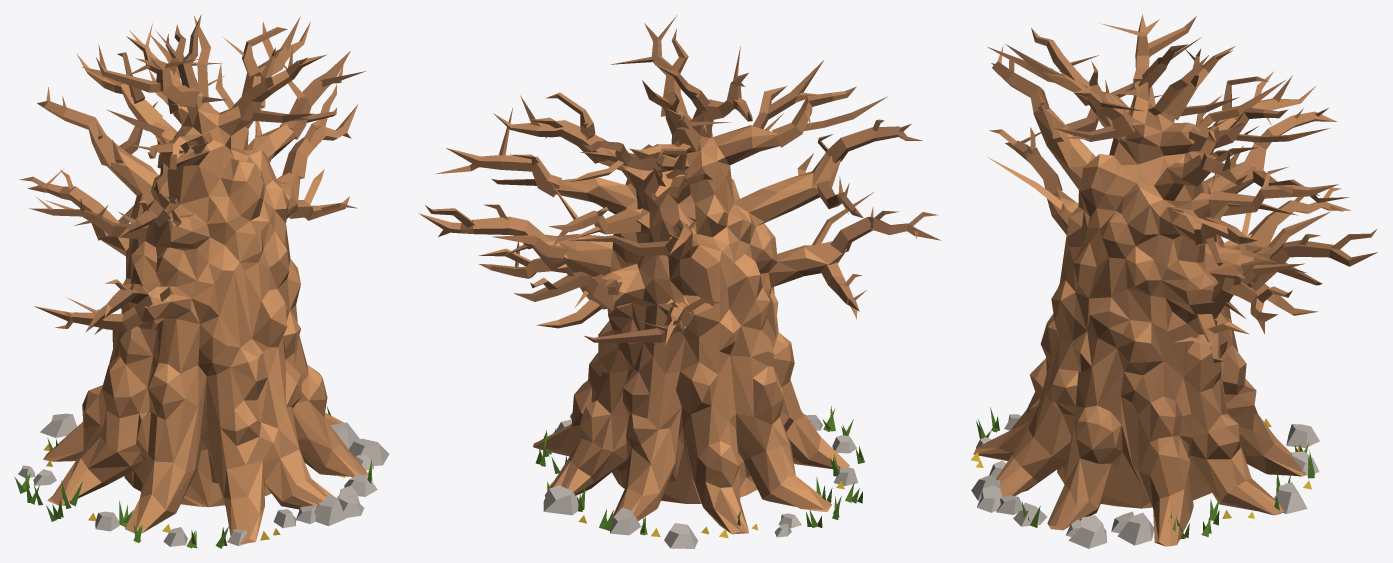
Rendered from giant_baobab_bare.glb.
3 renders of one model, left to right at view 1: azimuth 30°, elevation 25°; view 2: azimuth 150°, elevation 25°; view 3: azimuth 270°, elevation 25°, orthographic. The views are drawn at different scales.
Visible parts, largest first — view 1: giant_baobab_bare; view 2: giant_baobab_bare; view 3: giant_baobab_bare.
Part boxes in pixels (<box>): giant_baobab_bare: <box>14,14,389,548</box>; giant_baobab_bare: <box>418,15,940,548</box>; giant_baobab_bare: <box>970,14,1377,548</box>.
Bounding box in the file's own units: 25.42 × 25.96 × 21.91.
